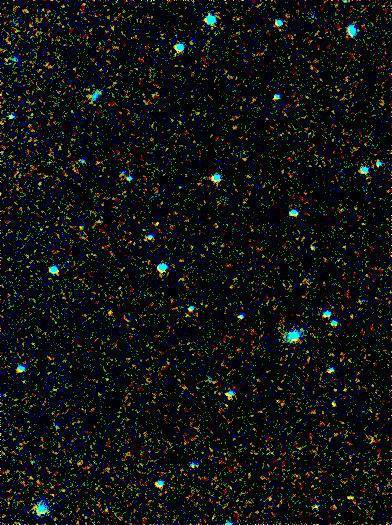star: (141, 212, 171, 242)
